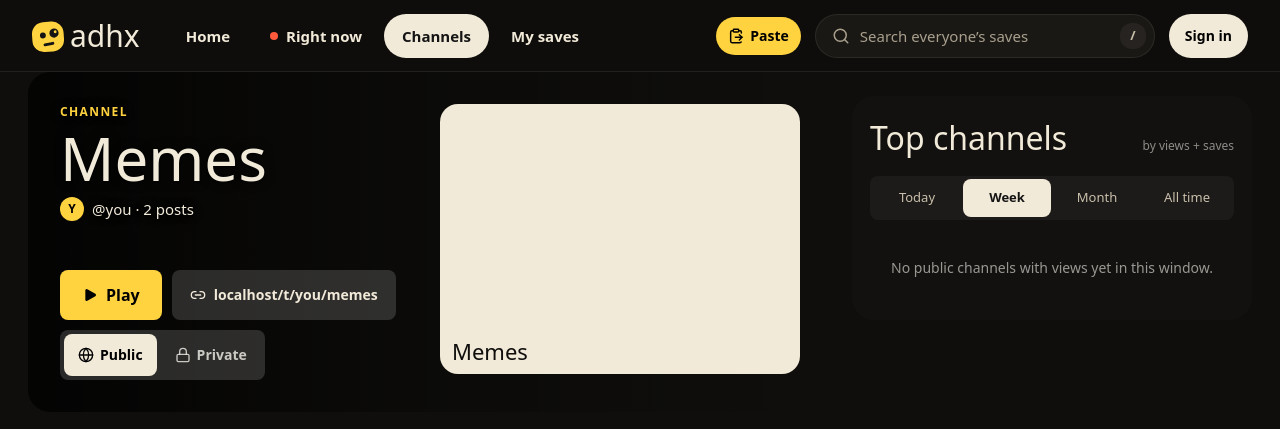
Test: ChannelPage for its owner › puts the switch back and says so when the change fails
The image size is (1280, 429).
What coordinates should you click on to do the following:
click the button "Private"
I would click on:
 (211, 355)
Its box is [161,334,261,376].
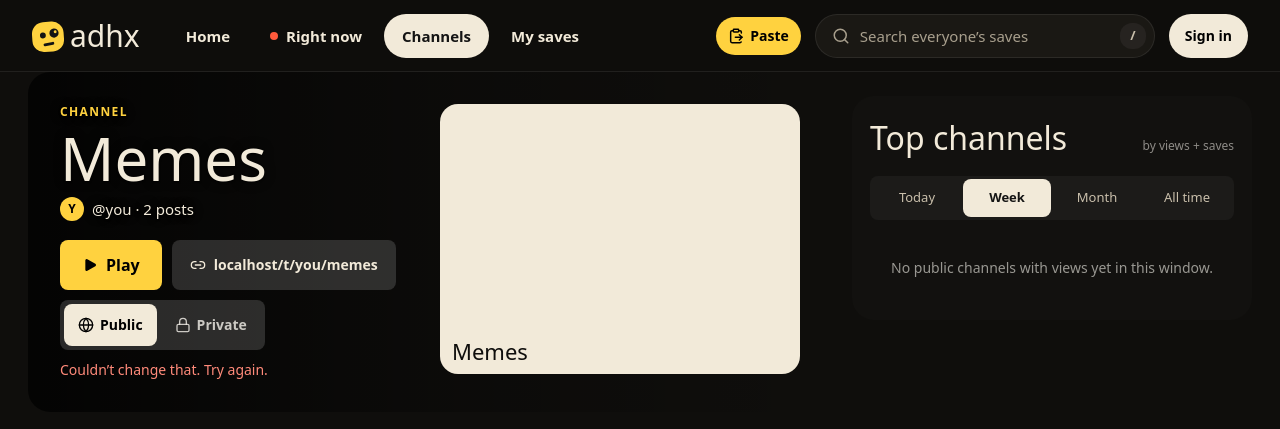
Expected: the message shows "Couldn’t change that", [60,360,268,379]
